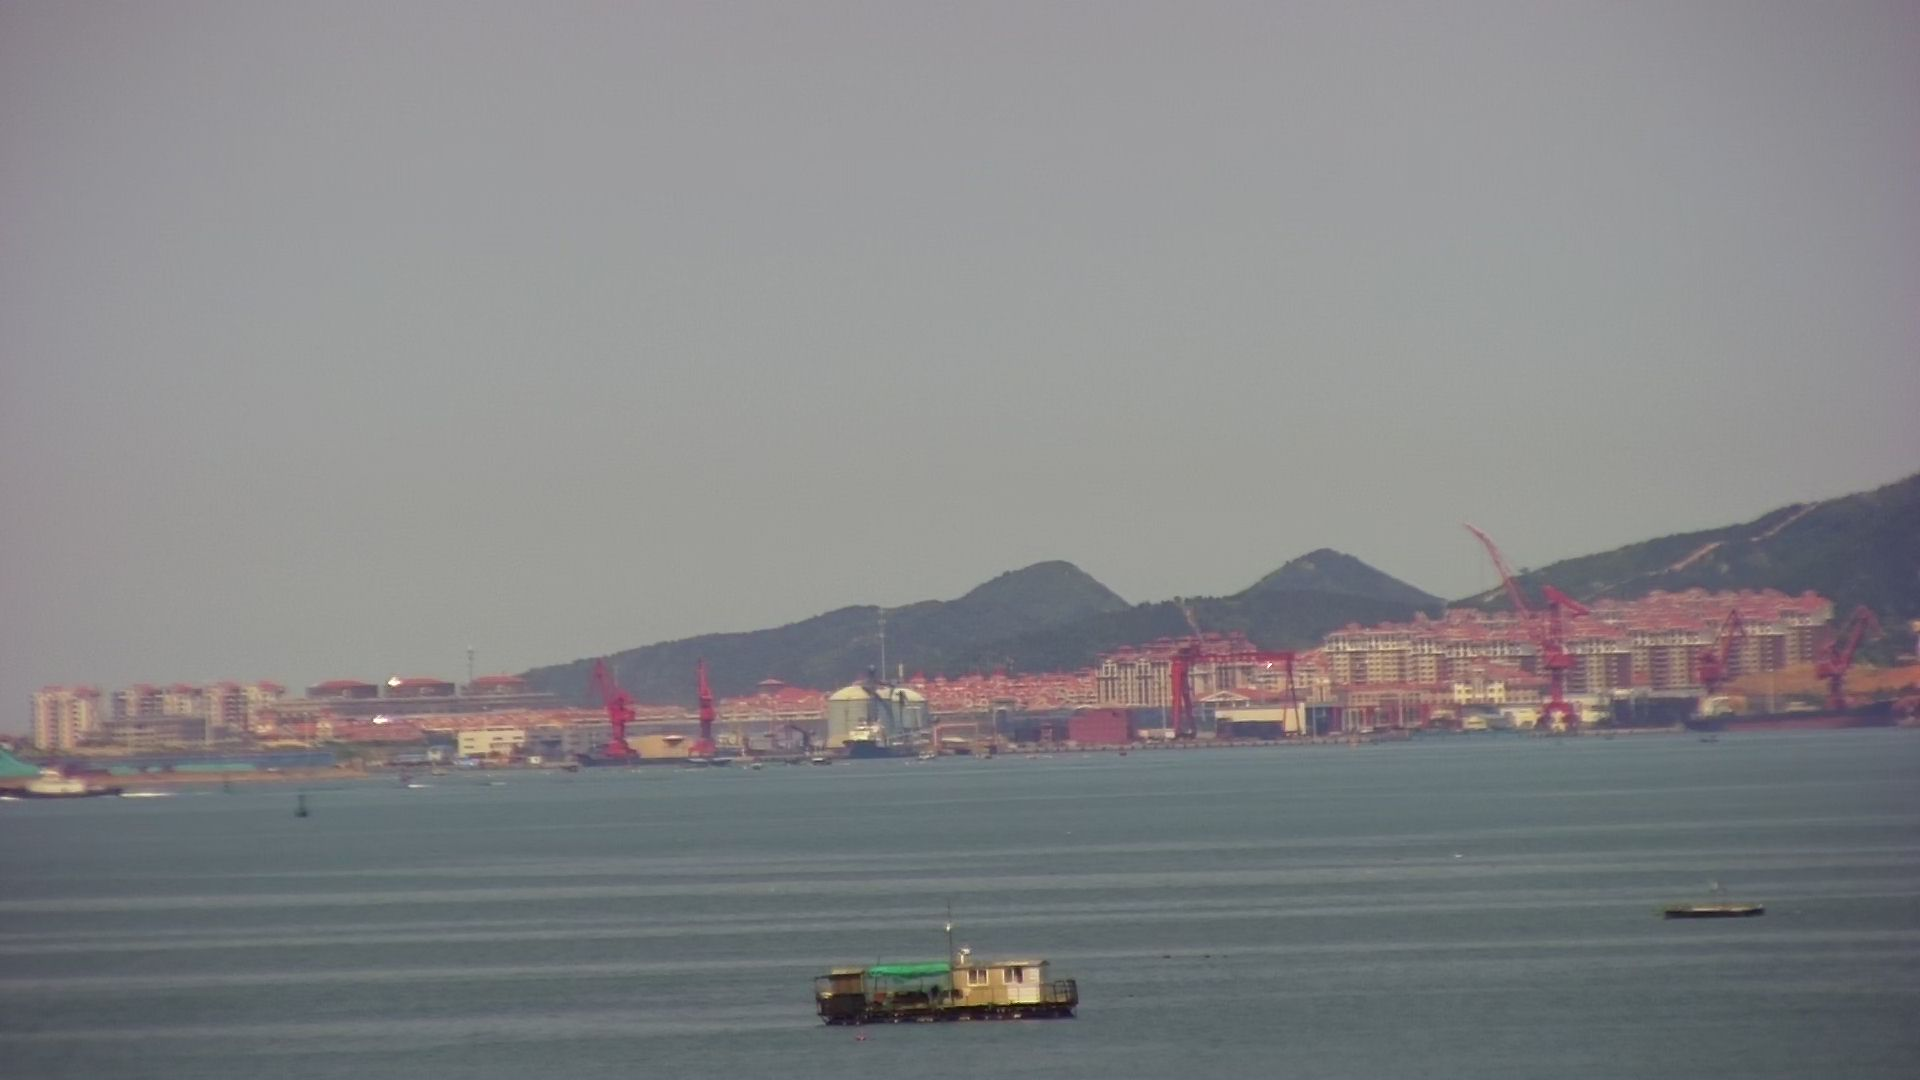boat: (1663, 895, 1768, 926)
platform: (815, 928, 1101, 1027)
